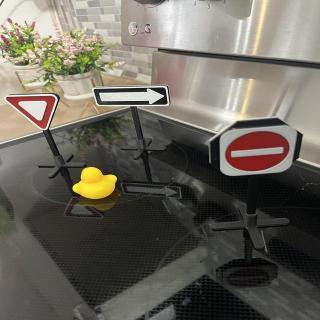duck_regular: (72, 167, 120, 201)
sign_noentry: (218, 126, 299, 178)
sign_oneway_right: (93, 86, 174, 107)
sign_yield: (4, 94, 68, 133)
